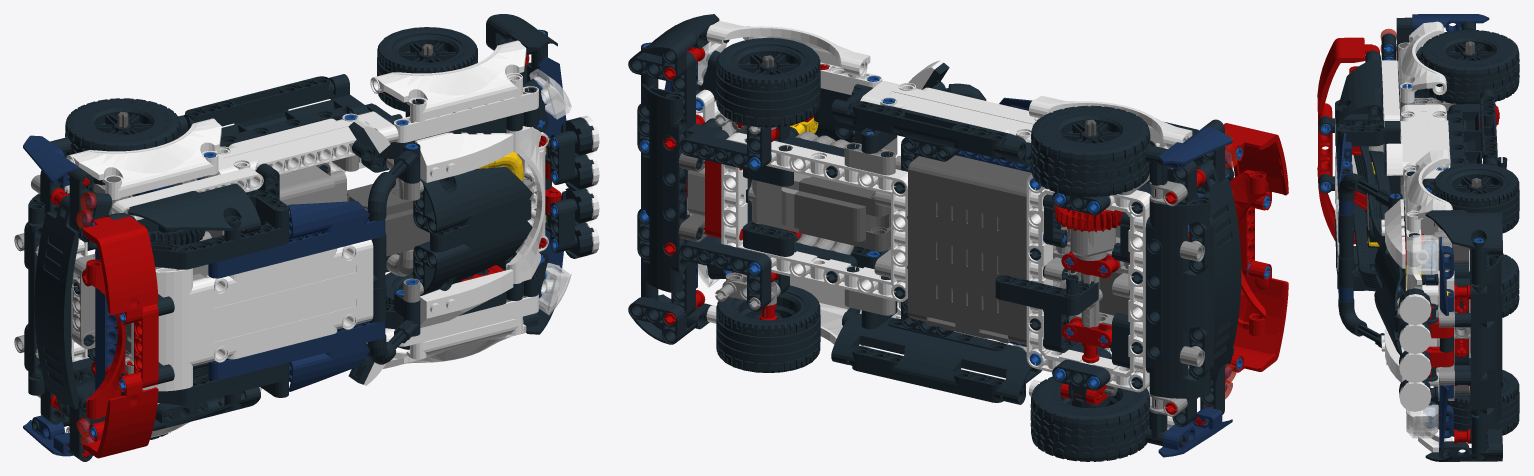
File: lego_42109.glb
3 views of the same model, side by side, from view 1: azimuth 30°, elevation 25°; view 2: azimuth 150°, elevation 25°; view 3: azimuth 270°, elevation 25° (orthographic). The views are drawn at different scales.
Parts seen in each view (by area): view 1: e763, e818, e808, e914, e859, e811, e893, e870, e847, e766, e894, e871 (+45 smaller); view 2: e336, e313, e801, e369, e705, e972, e0, e390, e970, e966, e968, e808 (+46 smaller); view 3: e705, e972, e808, e966, e811, e847, e916, e859, e914, e968, e870, e922 (+56 smaller).
Part boxes in pixels (x1,y1,x2,y2): e763: (193, 239, 373, 365); e818: (34, 195, 78, 418); e808: (178, 74, 368, 147); e914: (370, 40, 526, 121); e859: (66, 118, 221, 199); e811: (215, 111, 398, 174); e893: (413, 167, 532, 233); e870: (82, 216, 158, 324); e847: (128, 183, 260, 240); e766: (131, 267, 196, 391); e894: (413, 221, 532, 295); e871: (82, 373, 158, 458); e336: (907, 155, 1067, 344); e313: (1145, 196, 1213, 398); e801: (831, 312, 1041, 404); e369: (721, 132, 907, 301); e705: (637, 81, 687, 292); e972: (1031, 105, 1150, 197); e0: (1026, 175, 1150, 392); e390: (748, 172, 890, 251); e970: (1030, 376, 1150, 461); e966: (716, 38, 820, 127); e968: (716, 285, 820, 372); e808: (831, 99, 1031, 165); e705: (1470, 254, 1502, 431); e972: (1421, 30, 1519, 104); e808: (1447, 89, 1497, 167); e966: (1433, 163, 1519, 233); e811: (1400, 104, 1450, 185); e847: (1336, 59, 1382, 128); e916: (1425, 210, 1502, 257); e859: (1398, 21, 1446, 103); e914: (1404, 149, 1452, 231); e968: (1433, 370, 1519, 436); e870: (1317, 37, 1379, 114); e922: (1425, 429, 1502, 461).
Bounding box in the file's own units: 0.2665 × 0.1484 × 0.1015.
